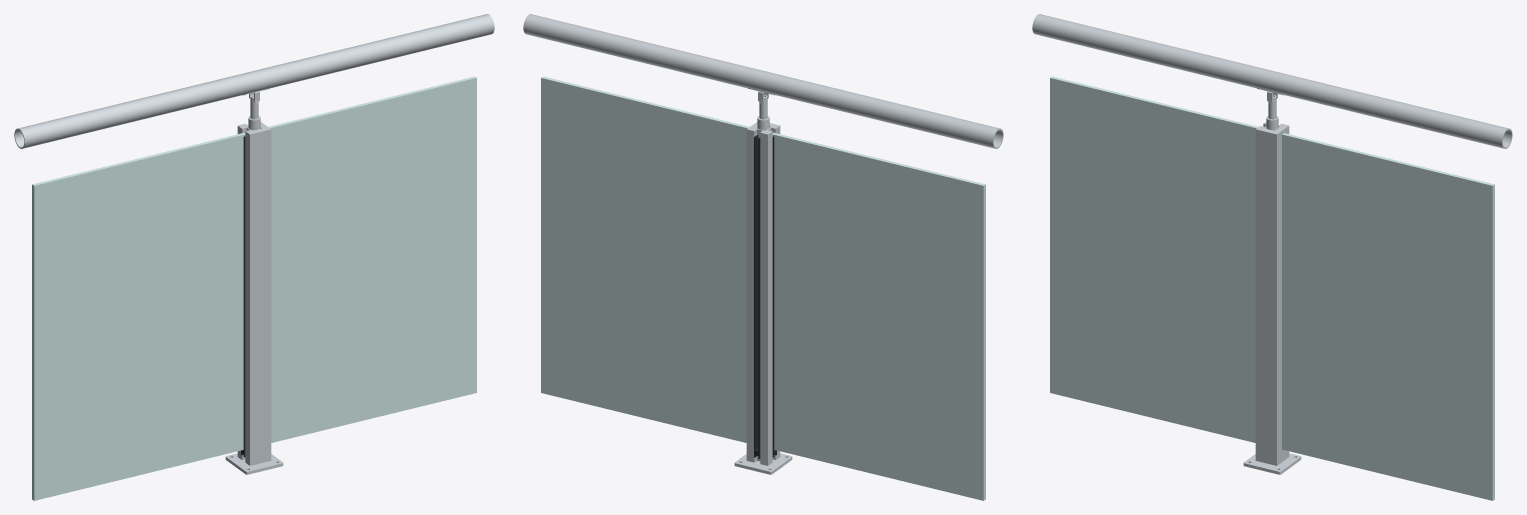
Rendered from hrd-153x-esquina.glb.
The picture shows the model from 3 angles, left to right: view 1: azimuth 30°, elevation 25°; view 2: azimuth 150°, elevation 25°; view 3: azimuth 330°, elevation 25°; orthographic projection.
Visible parts, largest first — view 1: Contexto_vidrio_left, Contexto_vidrio_right, Contexto_pasamanos, Perfil_acanalado, Empaque_left_1, Base_cuadrada_4_agujeros; view 2: Contexto_vidrio_left, Contexto_vidrio_right, Contexto_pasamanos, Perfil_acanalado, Empaque_right_1, Empaque_right_-1, Empaque_left_-1, Base_cuadrada_4_agujeros; view 3: Contexto_vidrio_right, Contexto_vidrio_left, Contexto_pasamanos, Perfil_acanalado, Base_cuadrada_4_agujeros.
Part boxes in pixels (x1,y1,x2,y2): Contexto_vidrio_left: (32,132,245,500); Contexto_vidrio_right: (268,76,476,442); Contexto_pasamanos: (14,14,494,148); Perfil_acanalado: (237,122,271,465); Empaque_left_1: (243,136,245,457); Base_cuadrada_4_agujeros: (225,453,283,474); Contexto_vidrio_left: (772,132,985,500); Contexto_vidrio_right: (541,76,749,442); Contexto_pasamanos: (523,14,1003,148); Perfil_acanalado: (746,122,780,465); Empaque_right_1: (754,135,758,457); Empaque_right_-1: (758,137,760,458); Empaque_left_-1: (772,136,774,457); Base_cuadrada_4_agujeros: (734,453,792,474); Contexto_vidrio_right: (1282,133,1494,500); Contexto_vidrio_left: (1050,76,1258,442); Contexto_pasamanos: (1032,14,1512,148); Perfil_acanalado: (1255,122,1289,465); Base_cuadrada_4_agujeros: (1243,453,1301,474).
Size of the model in its own units: 1.32 by 1.05 by 0.105.
